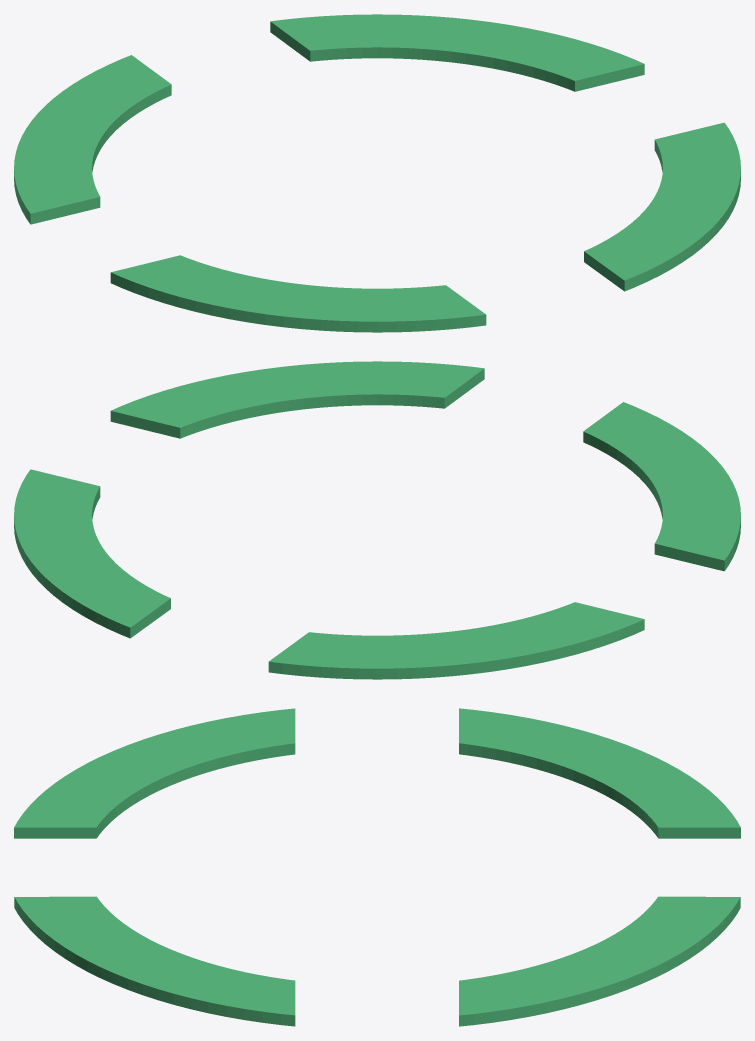
The model's file is selector_glb.glb.
3 renders of one model, top to bottom at view 1: azimuth 30°, elevation 25°; view 2: azimuth 150°, elevation 25°; view 3: azimuth 270°, elevation 25°, orthographic. The views are drawn at different scales.
Bounding box in the file's own units: 101 × 1.7 × 101.
